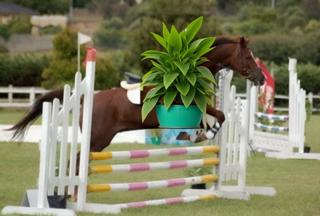horse: (13, 34, 267, 203)
pottedplant: (140, 14, 215, 128)
